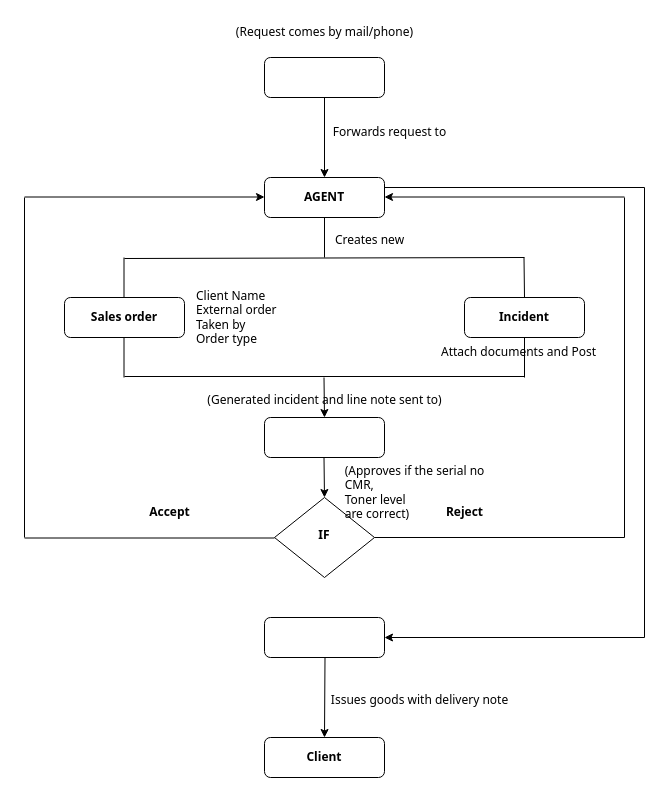
Image size: 670x795. Some labels were removed from this diagram. The shapes that lost their labels are listed below. From the top down, each one's centre as x and y in pixels, then its label:
(324,77): TONER SUPPORT
(324,437): Approver (Shilpa)
(324,637): Delivery team/Store
